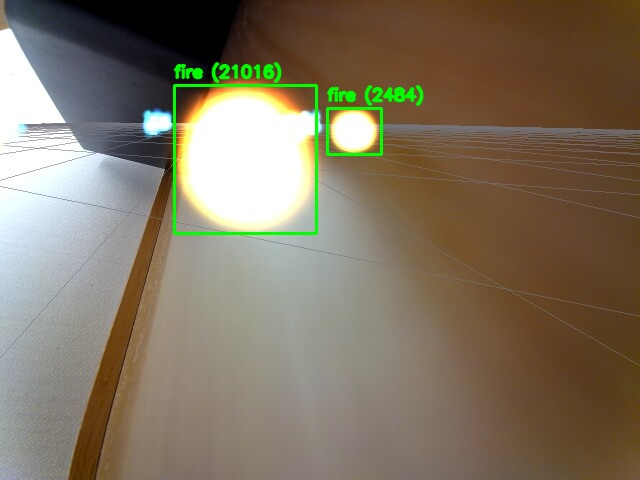fire: (174, 85, 316, 233), (327, 108, 381, 154)
